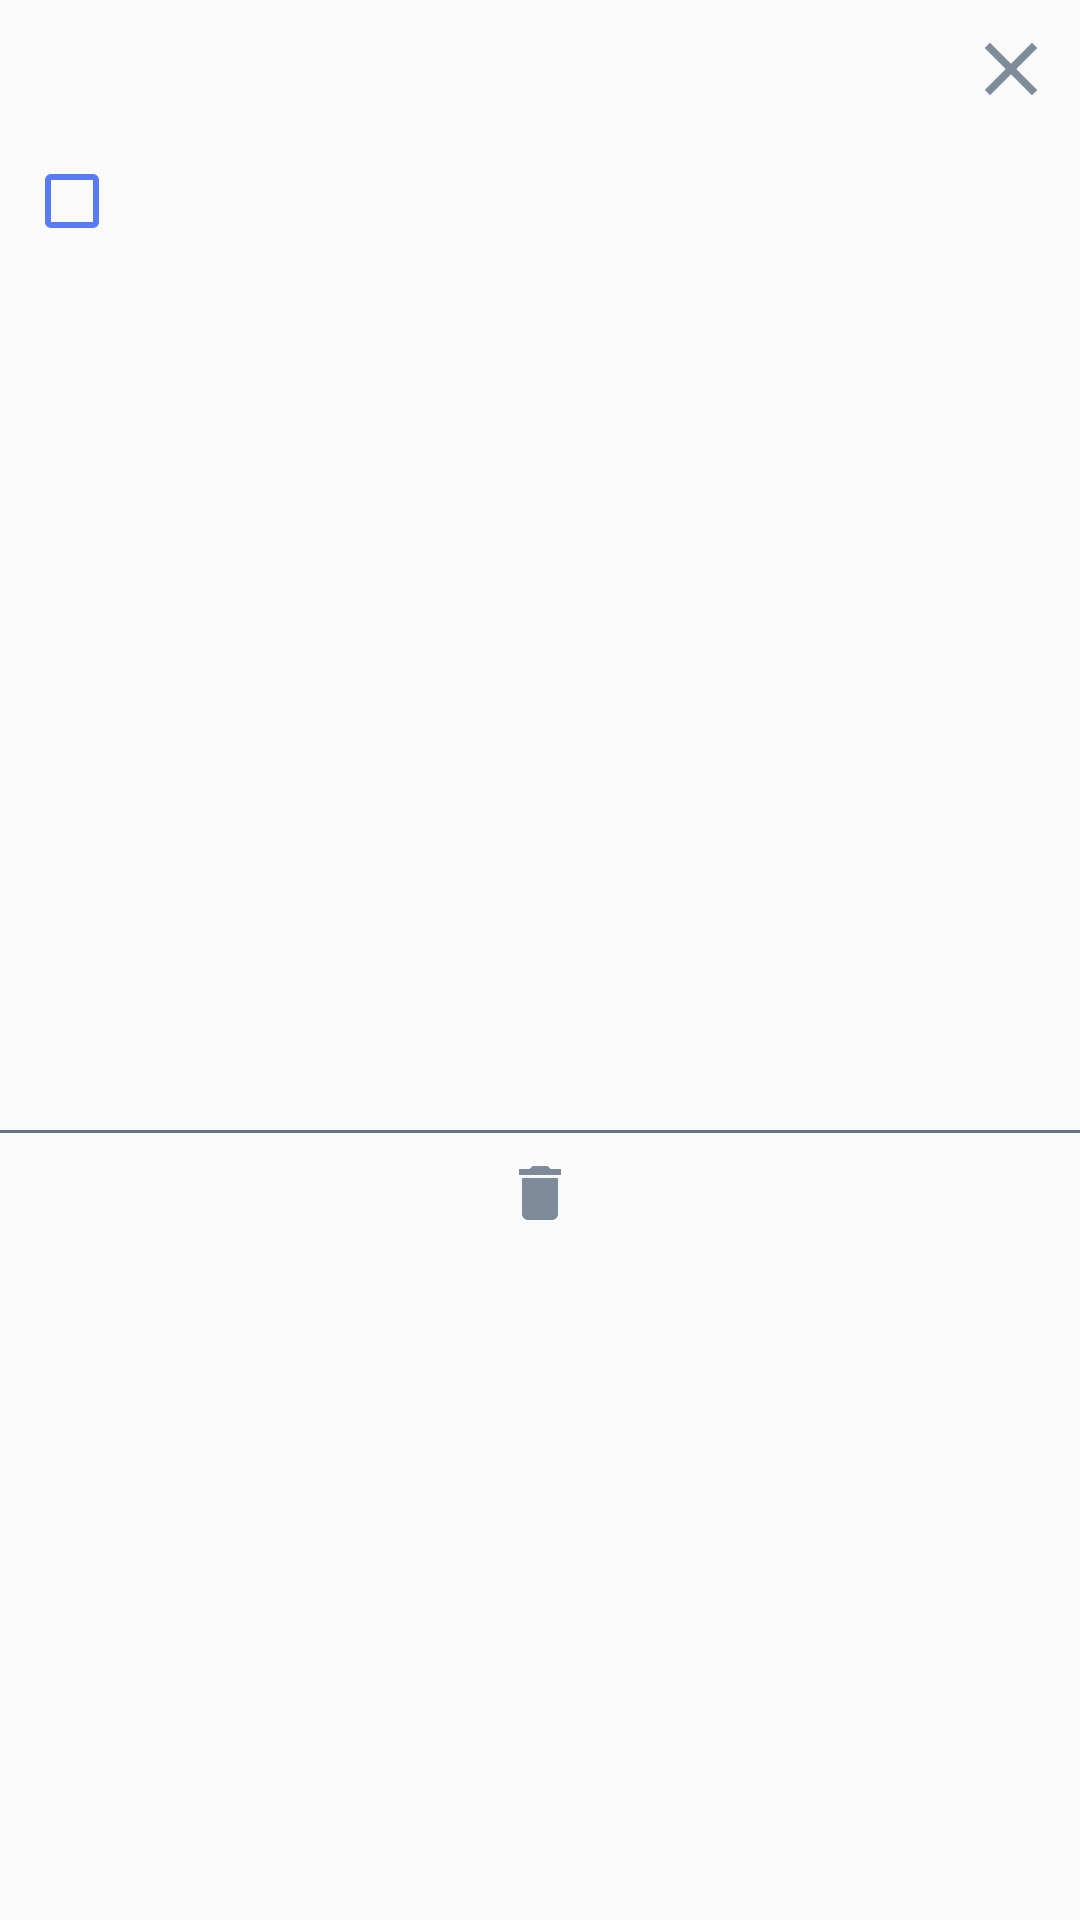

Named icons in this screenshot (1080*1920) and their centers, (x,y):
cross: (1011,69)
